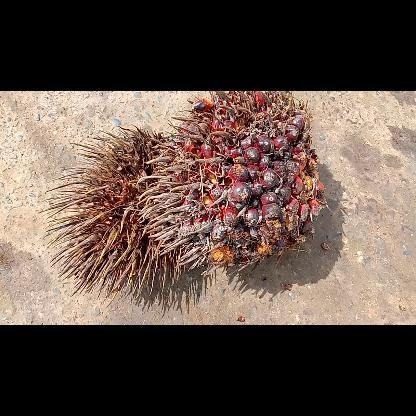Janjang kosong: (38, 124, 186, 306)
TBS masak: (136, 91, 328, 275)
